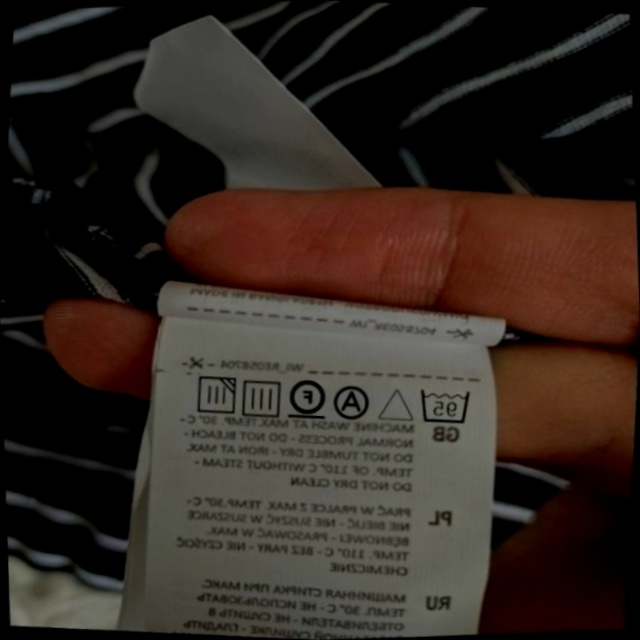95C: (413, 381, 475, 429)
bleach: (376, 380, 417, 427)
drip_dry: (236, 373, 286, 422)
drip_dry_in_shade: (188, 370, 240, 421)
dry_clean: (331, 381, 375, 423)
dry_clean_petrol_only: (284, 372, 330, 423)
